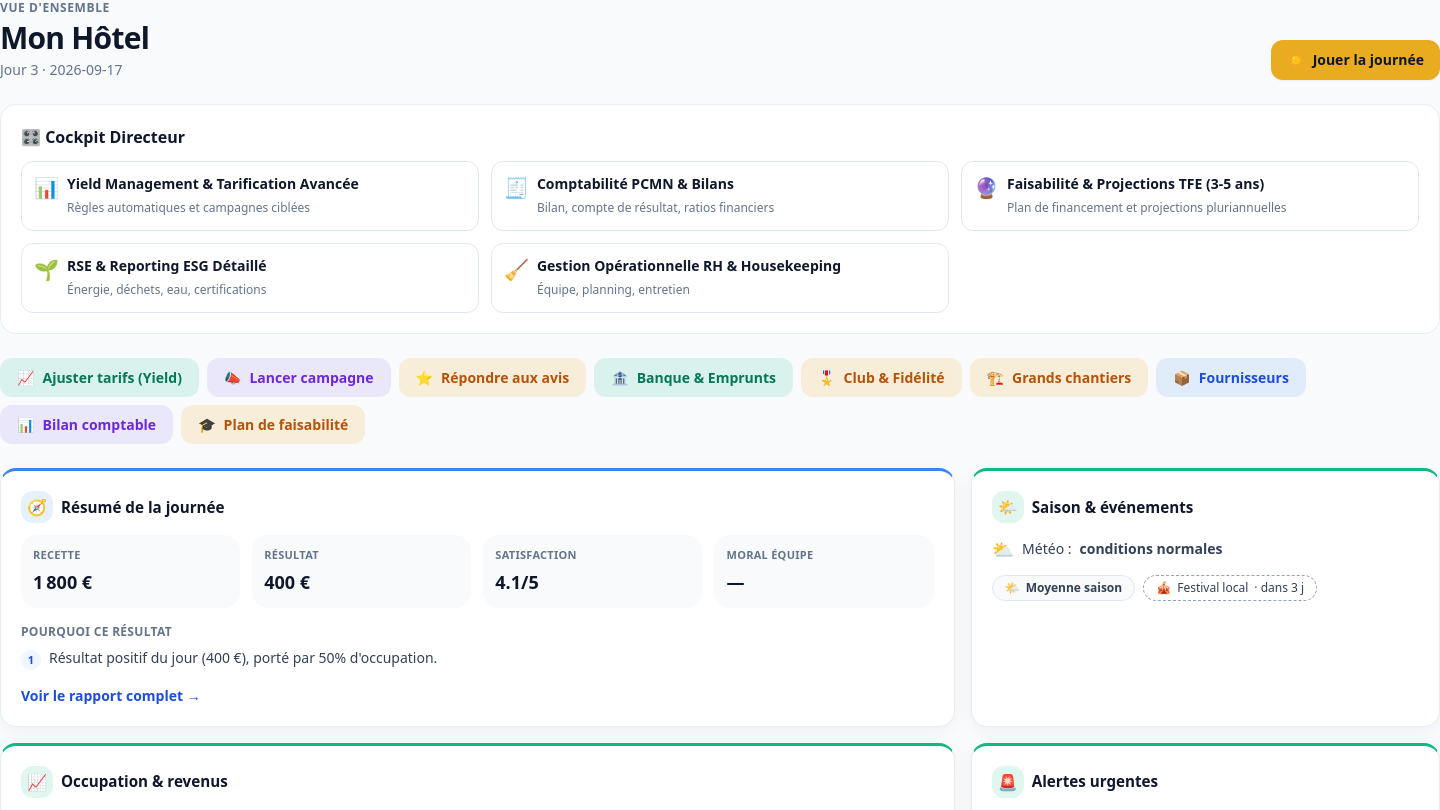
Dashboard as a Bento grid › opens the yield & marketing desk from the quick actions
Click the button with test id "quick-yield".
click(100, 378)  # box [0,358,199,397]
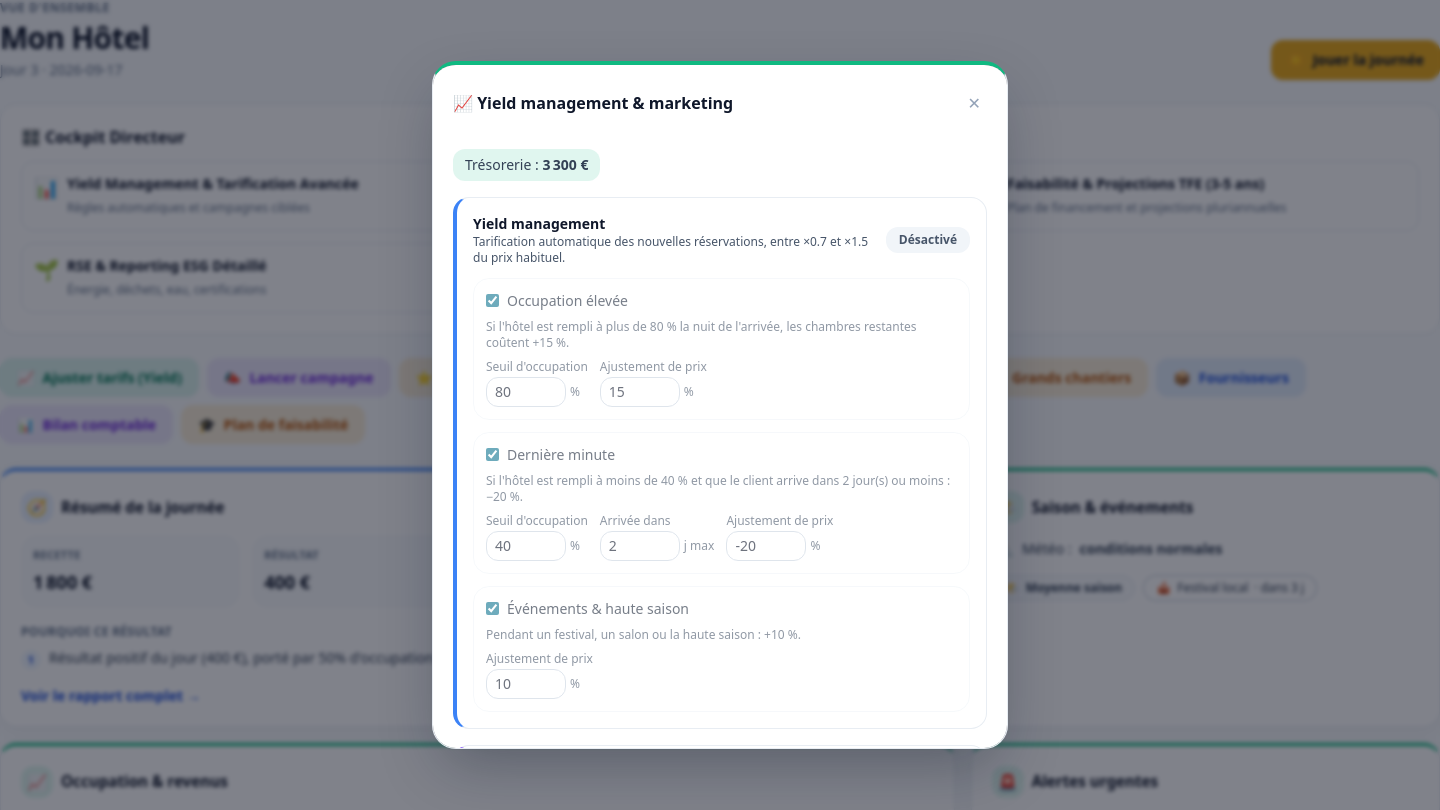
Check: the dialog is shown
